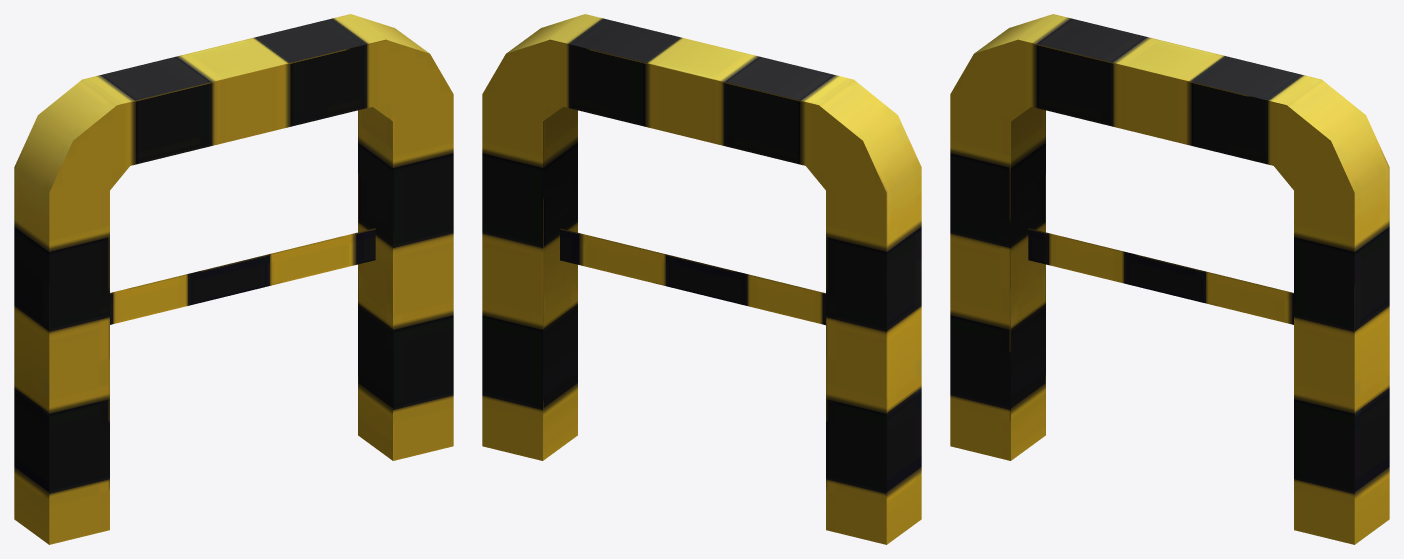
The model's file is barricade.obj.
3 views of the same model, side by side, from view 1: azimuth 30°, elevation 25°; view 2: azimuth 150°, elevation 25°; view 3: azimuth 330°, elevation 25° (orthographic).
Visible parts, largest first — view 1: barricade; view 2: barricade; view 3: barricade.
Boxes of the visible parts, box(x1,y1,x2,y2) form: barricade: box(14, 14, 453, 544); barricade: box(482, 14, 921, 544); barricade: box(950, 14, 1389, 544).
Size of the model in its own units: 1 by 1 by 0.15.
Materials: 1 (1 with a texture image).
